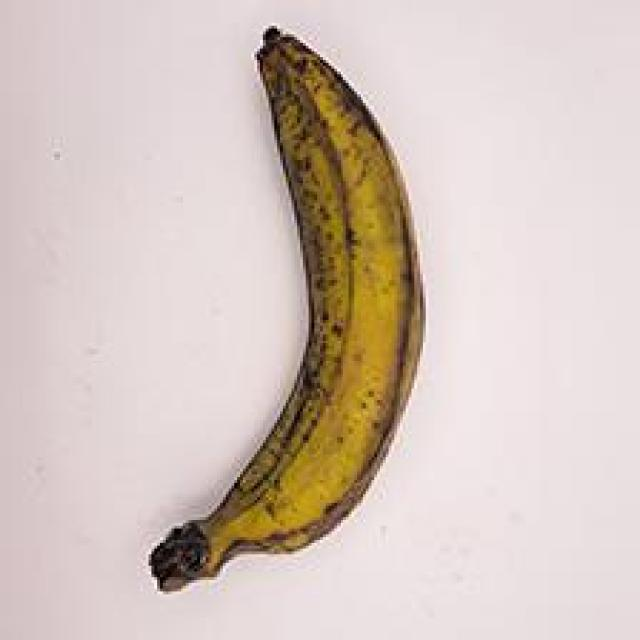Overripe: (116, 12, 432, 608)
